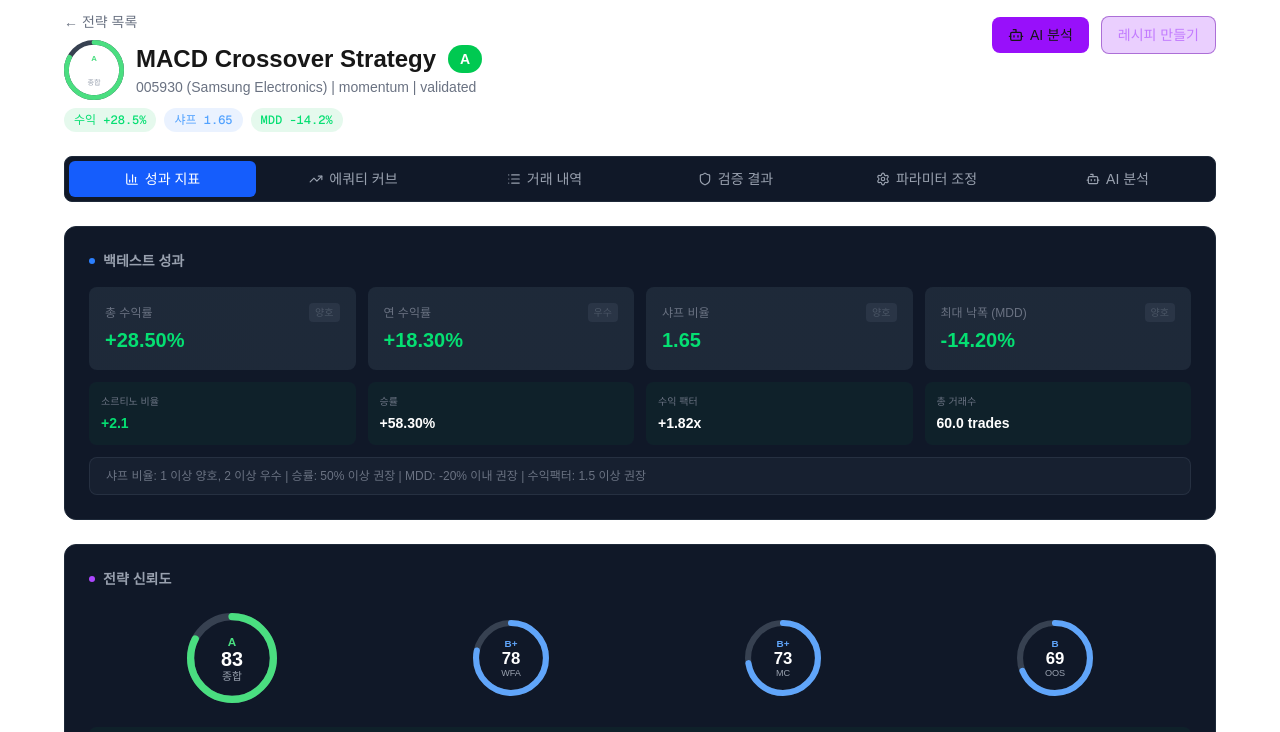
StrategyDetailPage › switches to AI tab and shows AI analysis initial state
The width and height of the screenshot is (1280, 732).
Click the 2nd button "AI 분석".
click(1118, 179)  # box [1024,161,1211,197]
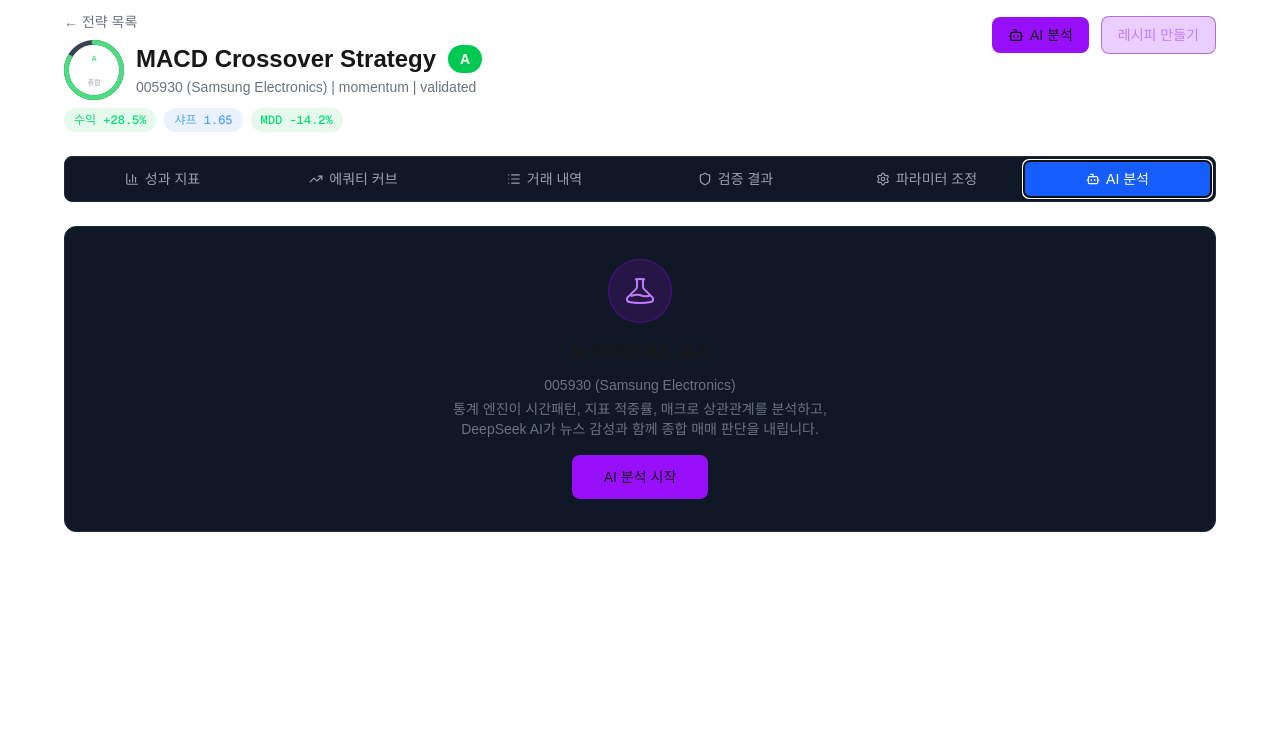
Expected: the button "AI 분석 시작" is shown, [572,455,708,499]
